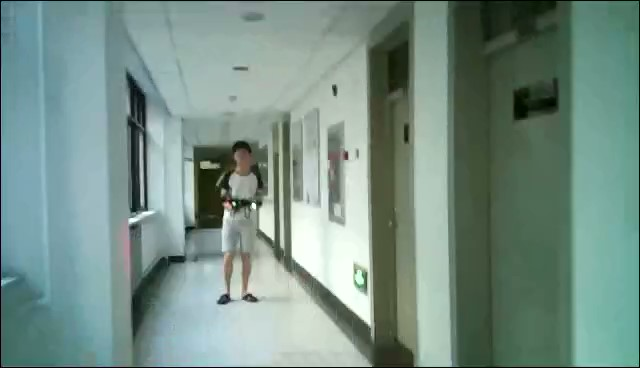drone: (213, 195, 270, 220)
person: (214, 139, 268, 305)
